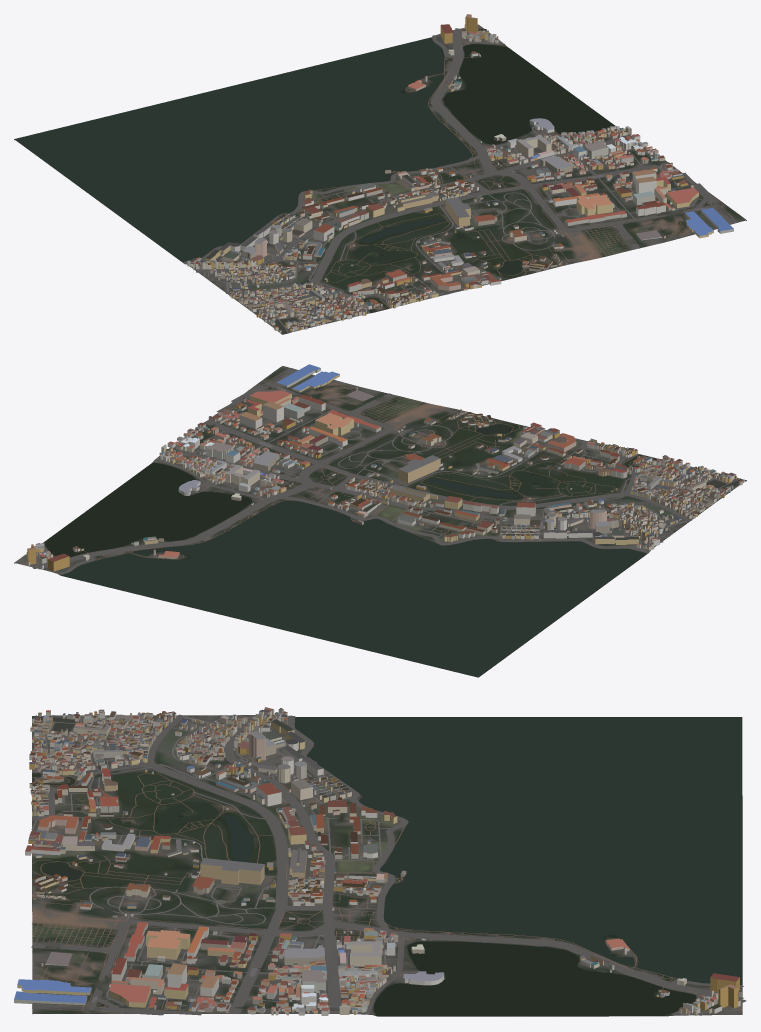
3 views of the same model, one above another, from view 1: azimuth 30°, elevation 25°; view 2: azimuth 150°, elevation 25°; view 3: azimuth 270°, elevation 25° (orthographic). The views are drawn at different scales.
Parts seen in each view (by area): view 1: water, buildings, ground, roads; view 2: water, buildings, ground, roads; view 3: water, ground, buildings, roads.
Part boxes in pixels (box(x1,y1,x2,y2)): water: box(15, 37, 715, 334); buildings: box(187, 14, 733, 332); ground: box(14, 24, 746, 334); roads: box(183, 27, 737, 333); water: box(44, 375, 745, 676); buildings: box(26, 364, 744, 571); ground: box(14, 366, 746, 677); roads: box(25, 368, 745, 574); water: box(32, 716, 741, 1015); ground: box(32, 715, 742, 1016); buildings: box(14, 707, 741, 1015); roads: box(31, 714, 746, 1015).
Size of the model in its own units: 1414 by 52.18 by 1447.
